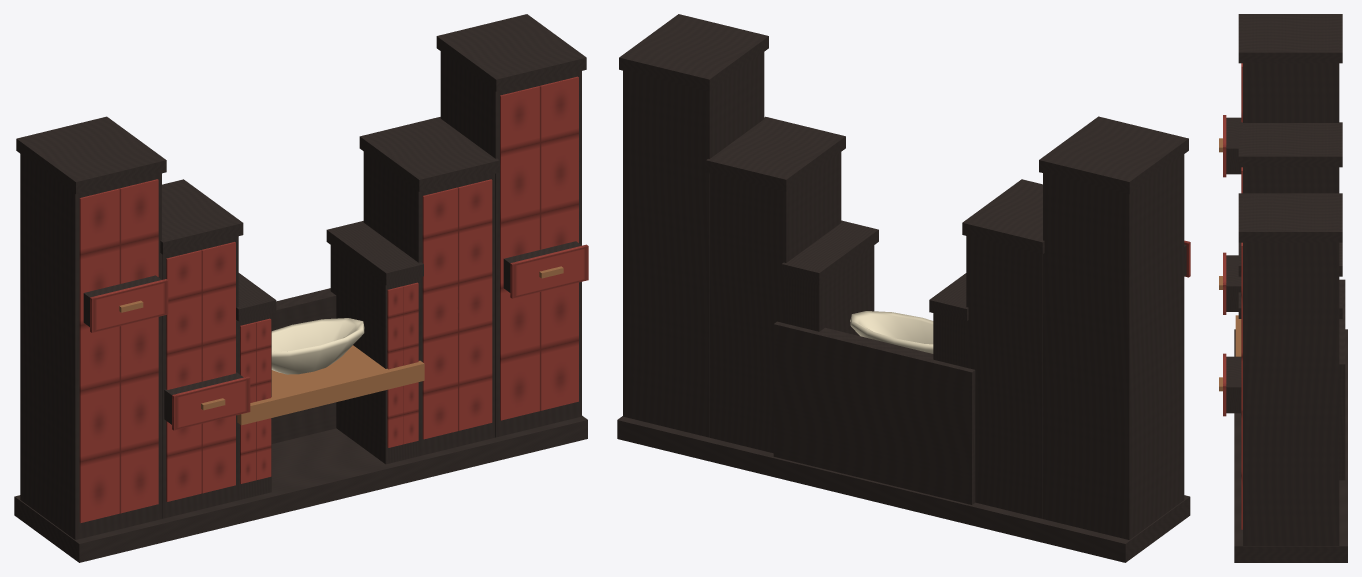
3 views of the same model, side by side, from view 1: azimuth 30°, elevation 25°; view 2: azimuth 150°, elevation 25°; view 3: azimuth 270°, elevation 25° (orthographic). The views are drawn at different scales.
Parts seen in each view (by area): view 1: Right stepped bank, Left stepped bank, Plinth and open niche, Three open drawers, Porcelain counting bowl; view 2: Left stepped bank, Right stepped bank, Plinth and open niche, Porcelain counting bowl; view 3: Right stepped bank, Left stepped bank, Plinth and open niche, Three open drawers.
Boxes of the visible parts, left/top/right/bottom form: Right stepped bank: left=326, top=14, right=586, bottom=464; Left stepped bank: left=16, top=116, right=276, bottom=539; Plinth and open niche: left=14, top=288, right=587, bottom=562; Three open drawers: left=83, top=241, right=588, bottom=430; Porcelain counting bowl: left=271, top=318, right=364, bottom=374; Left stepped bank: left=929, top=116, right=1188, bottom=539; Right stepped bank: left=619, top=14, right=878, bottom=453; Plinth and open niche: left=617, top=321, right=1190, bottom=562; Porcelain counting bowl: left=850, top=311, right=933, bottom=353; Right stepped bank: left=1238, top=193, right=1342, bottom=545; Left stepped bank: left=1238, top=14, right=1342, bottom=193; Plinth and open niche: left=1234, top=279, right=1347, bottom=562; Three open drawers: left=1219, top=115, right=1241, bottom=416.
Size of the model in its own units: 4.2 by 2.98 by 1.05.
1 material, 1 textured.
